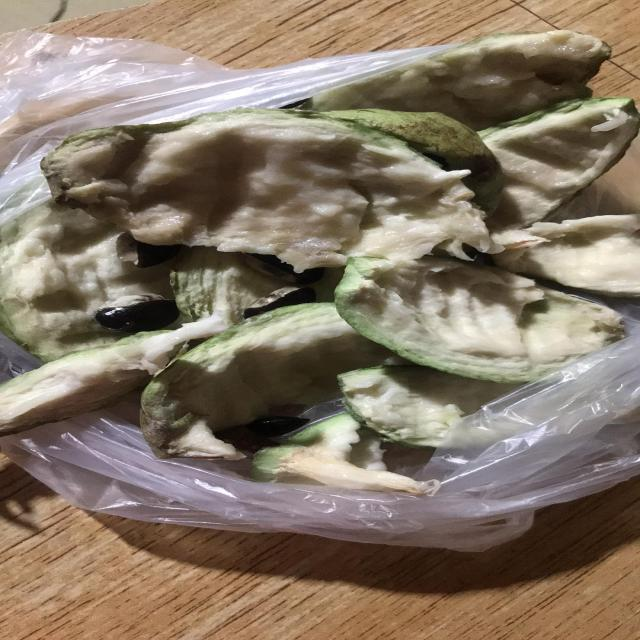organic: (39, 107, 508, 274), (332, 258, 630, 384), (141, 292, 400, 429), (253, 422, 442, 506)
